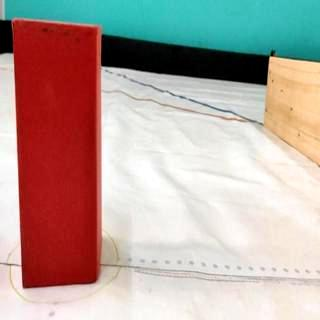redbox: (10, 18, 100, 290)
